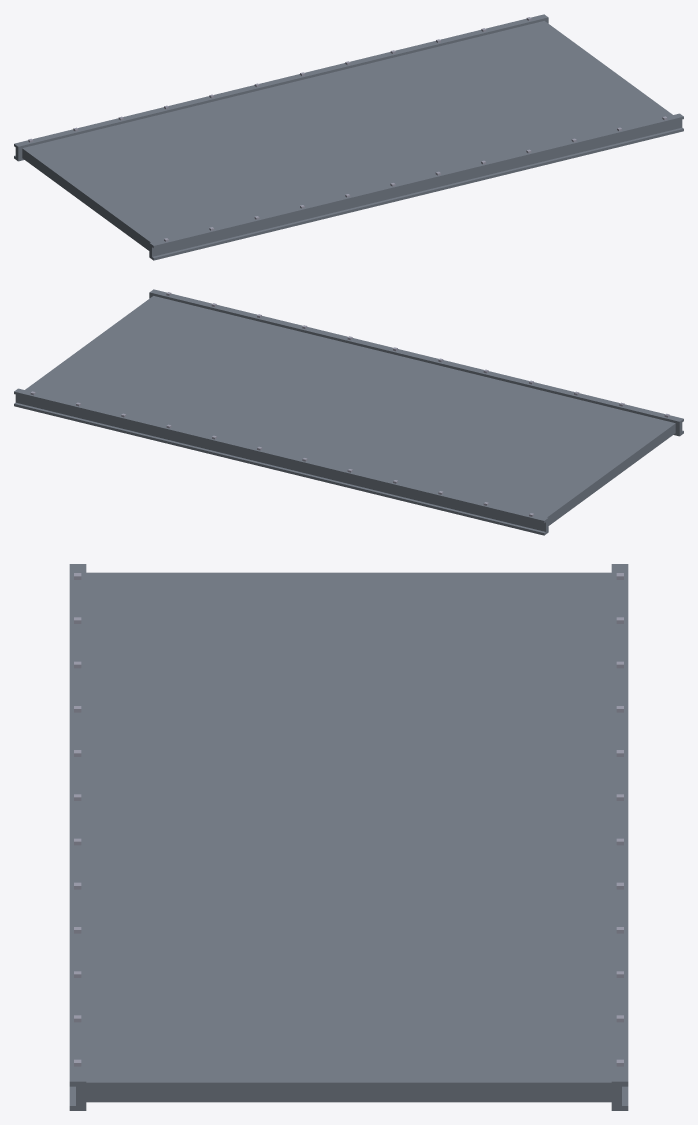
Rendered from Board01.fbx.
3 views of the same model, one above another, from view 1: azimuth 30°, elevation 25°; view 2: azimuth 150°, elevation 25°; view 3: azimuth 270°, elevation 25° (orthographic). The views are drawn at different scales.
Visible parts, largest first — view 1: Board01; view 2: Board01; view 3: Board01.
Part boxes in pixels (x1,y1,x2,y2): Board01: (14,14,683,260); Board01: (14,289,683,535); Board01: (69,564,628,1110).
Bounding box in the file's own units: 2.03 × 0.0604 × 0.9266.
